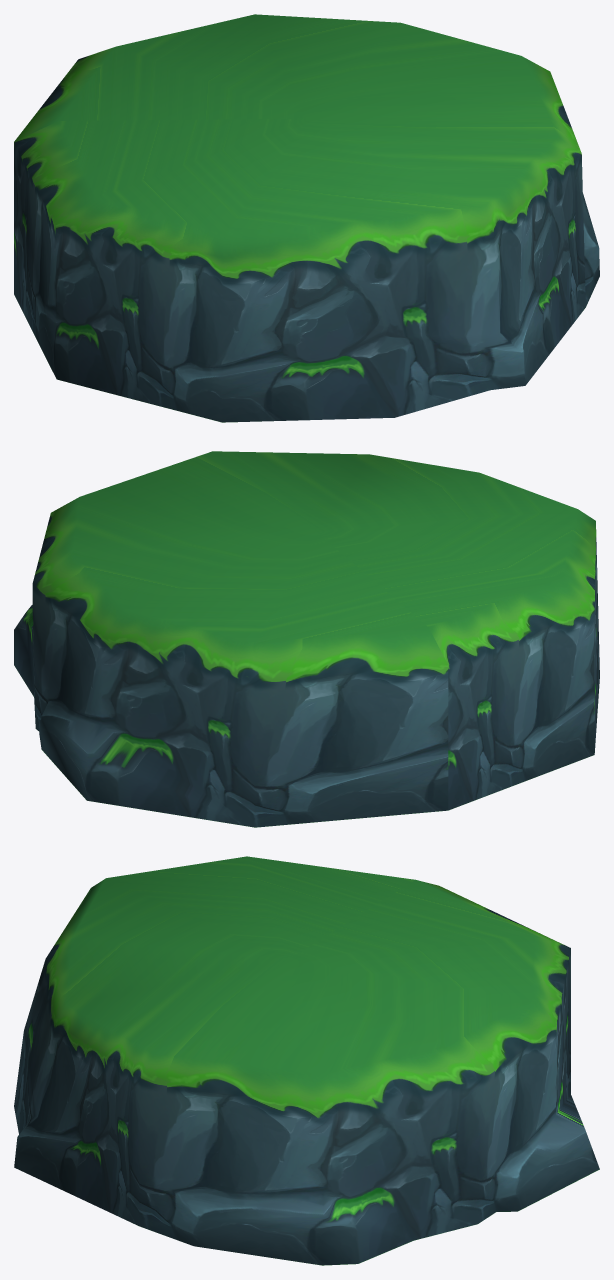
The model's file is rc_01_budA_15_01.FBX.
The picture shows the model from 3 angles, top to bottom: view 1: azimuth 30°, elevation 25°; view 2: azimuth 150°, elevation 25°; view 3: azimuth 270°, elevation 25°; orthographic projection. The views are drawn at different scales.
Parts seen in each view (by area): view 1: Box054; view 2: Box054; view 3: Box054.
Part boxes in pixels (x1,y1,x2,y2): Box054: (14,14,599,422); Box054: (14,451,599,827); Box054: (14,856,599,1265).
Size of the model in its own units: 3578 by 3389 by 1106.
